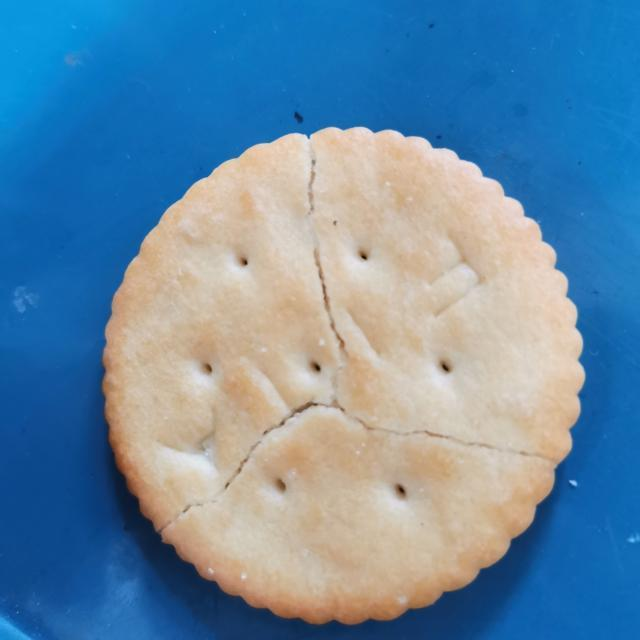Fracture: (147, 124, 568, 560)
